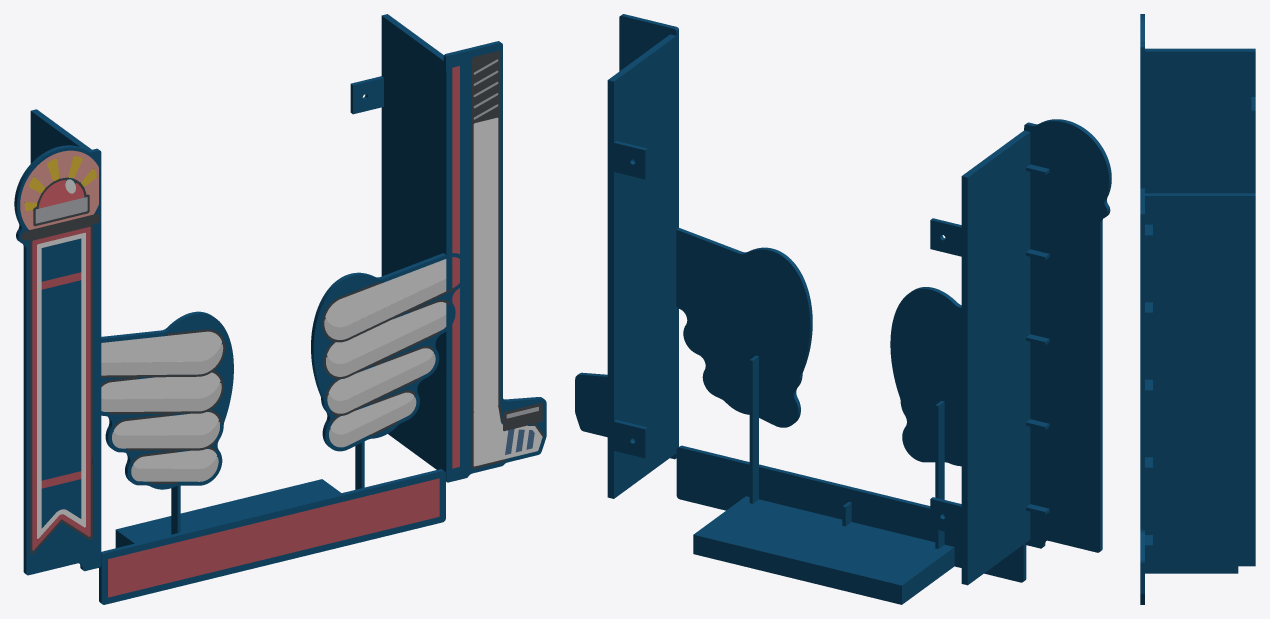
File: parts.glb
3 views of the same model, side by side, from view 1: azimuth 30°, elevation 25°; view 2: azimuth 150°, elevation 25°; view 3: azimuth 270°, elevation 25° (orthographic). The views are drawn at different scales.
Parts seen in each view (by area): view 1: wing_right__base, wing_left__base, topper__base, topper__white, topper__red, topper__grey, wing_right__white, wing_right__ink, wing_left__red, topper__ink, wing_left__white, wing_left__ink (+5 smaller); view 2: wing_left__base, topper__base, wing_right__base; view 3: wing_right__base, wing_left__base, topper__base.
Part boxes in pixels (left/top/right/bottom): wing_right__base: left=350, top=14, right=546, bottom=482; wing_left__base: left=14, top=109, right=101, bottom=575; topper__base: left=99, top=253, right=459, bottom=604; topper__white: left=101, top=259, right=446, bottom=468; topper__red: left=107, top=478, right=439, bottom=597; topper__grey: left=101, top=279, right=446, bottom=481; wing_right__white: left=473, top=117, right=542, bottom=466; wing_right__ink: left=471, top=51, right=543, bottom=468; wing_left__red: left=32, top=227, right=90, bottom=550; topper__ink: left=101, top=282, right=454, bottom=483; wing_left__white: left=37, top=179, right=85, bottom=538; wing_left__ink: left=21, top=177, right=98, bottom=554; wing_left__base: left=930, top=119, right=1111, bottom=585; topper__base: left=676, top=228, right=1026, bottom=604; wing_right__base: left=575, top=14, right=678, bottom=498; wing_right__base: left=1140, top=188, right=1255, bottom=604; wing_left__base: left=1140, top=14, right=1255, bottom=193; topper__base: left=1145, top=566, right=1238, bottom=573.
Bounding box in the file's own units: 345 × 291 × 73.02.
